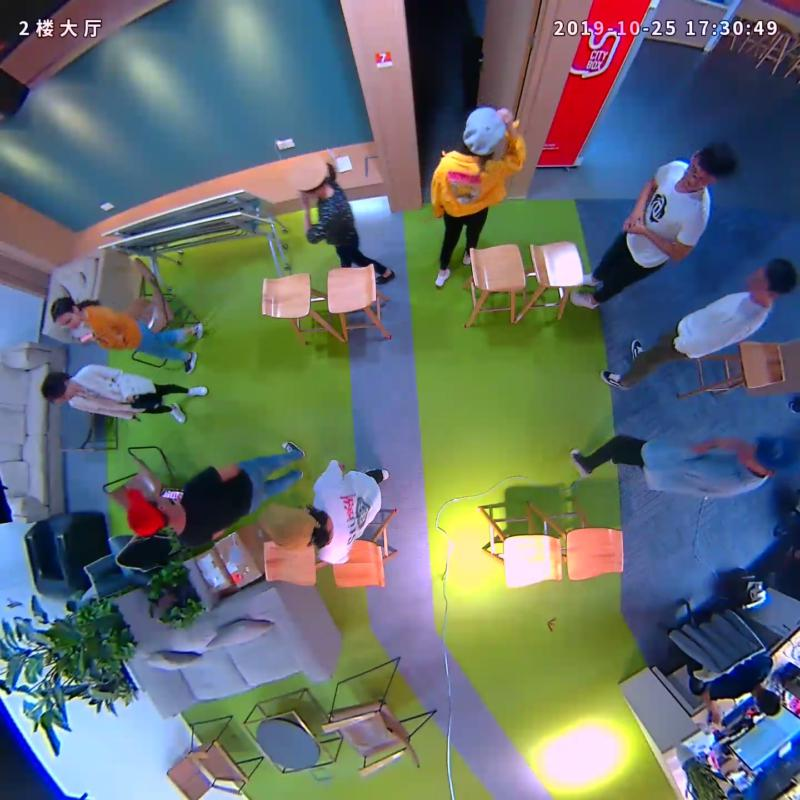head: (255, 502, 327, 549), (121, 486, 172, 539), (736, 434, 798, 476), (683, 143, 736, 189), (461, 105, 508, 155), (745, 258, 799, 299), (286, 153, 331, 198), (40, 370, 78, 405), (50, 296, 84, 329)
